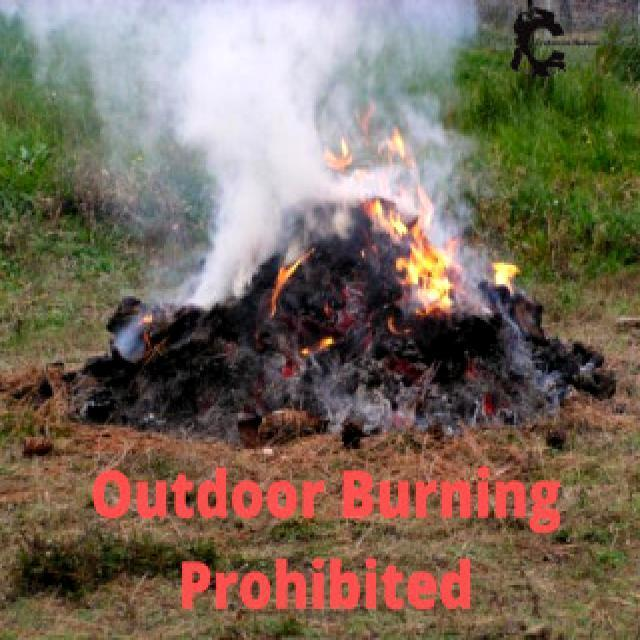Fire: (362, 158, 526, 328)
Smoke: (19, 6, 498, 281)
